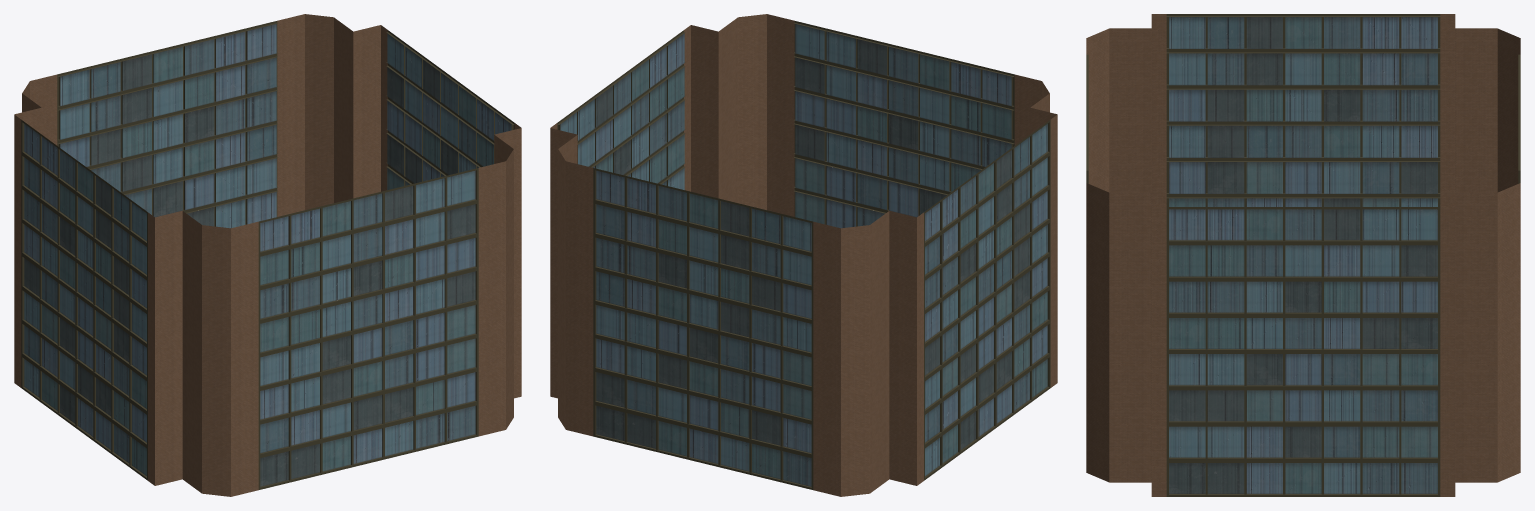
Rendered from jctBld50B_mdl.fbx.
The picture shows the model from 3 angles, left to right: view 1: azimuth 30°, elevation 25°; view 2: azimuth 150°, elevation 25°; view 3: azimuth 270°, elevation 25°; orthographic projection. The views are drawn at different scales.
Visible parts, largest first — view 1: jctBld50B_mdl_LOD0; view 2: jctBld50B_mdl_LOD0; view 3: jctBld50B_mdl_LOD0.
Part boxes in pixels (x1,y1,x2,y2): jctBld50B_mdl_LOD0: (14,14,521,496); jctBld50B_mdl_LOD0: (550,14,1057,496); jctBld50B_mdl_LOD0: (1086,14,1520,496).
Bounding box in the file's own units: 4000 × 2800 × 3800.
